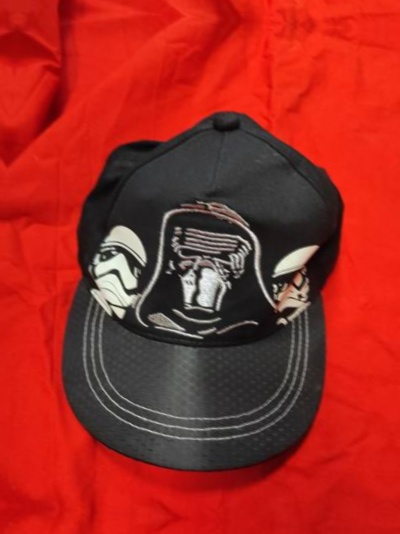Hat: (37, 80, 378, 482)
